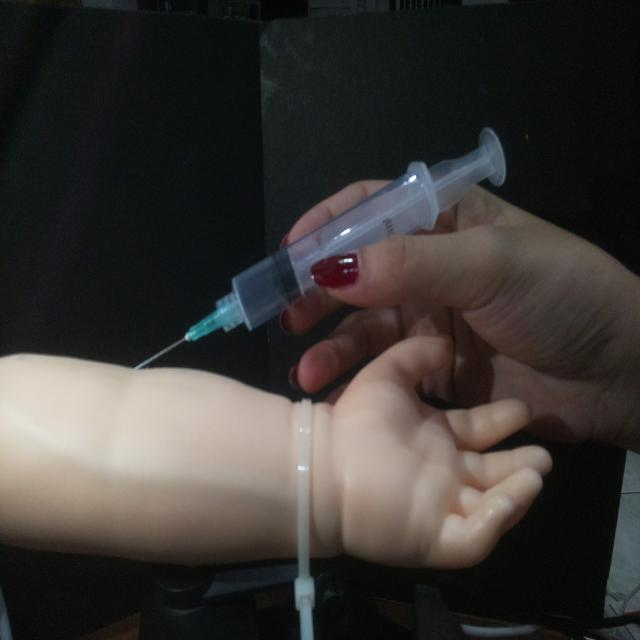22deg: (130, 122, 511, 372)
